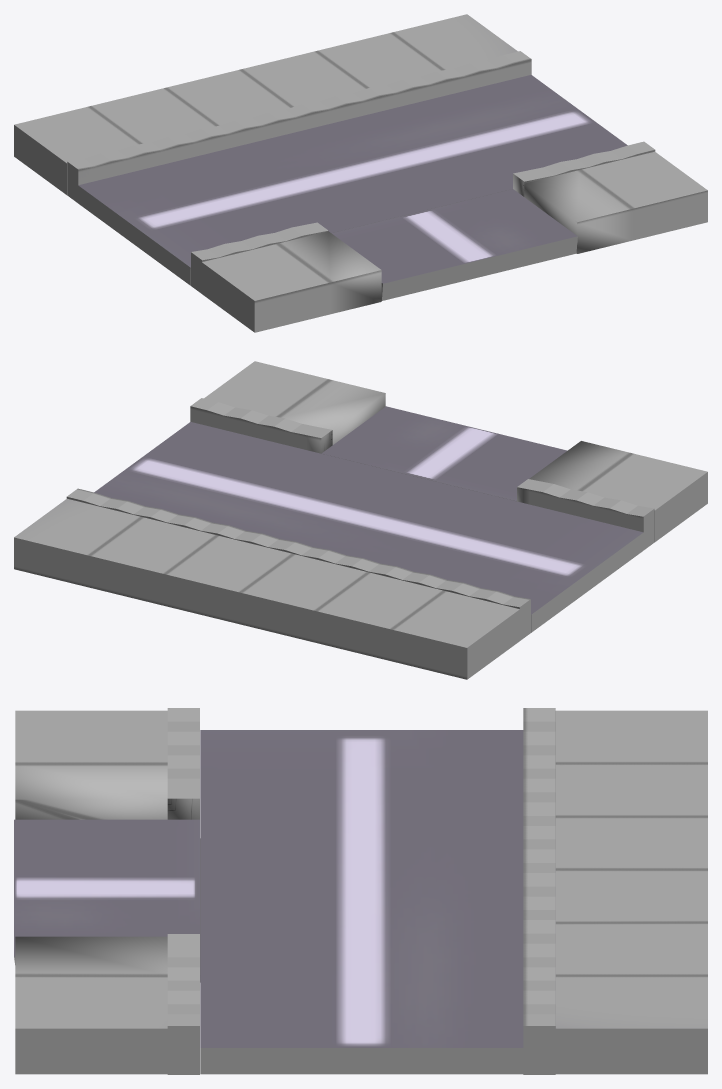
Rendered from RoadTCross.fbx.
3 renders of one model, top to bottom at view 1: azimuth 30°, elevation 25°; view 2: azimuth 150°, elevation 25°; view 3: azimuth 270°, elevation 25°, orthographic. The views are drawn at different scales.
Parts seen in each view (by area): view 1: Torn.001; view 2: Torn.001; view 3: Torn.001.
Part boxes in pixels (left/top/right/bottom): Torn.001: left=14, top=14, right=707, bottom=332; Torn.001: left=14, top=361, right=707, bottom=679; Torn.001: left=14, top=708, right=707, bottom=1074.
Bounding box in the file's own units: 1617 × 116 × 1490.
